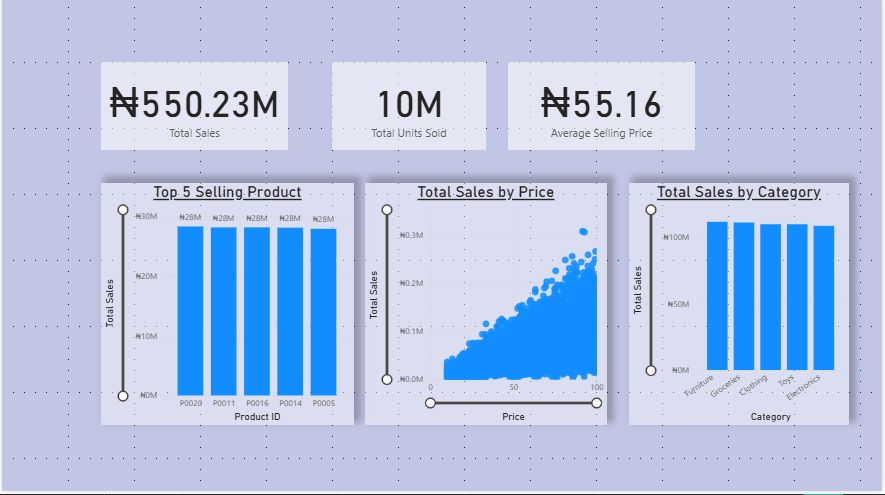

This screenshot's page, from the dashboard's own definition file:
{"tool":"powerbi","page":{"name":"Sales and Pricing","canvas":[1280,720],"ordinal":3},"visuals":[{"type":"card","fields":{"Values":["Table.Total Sales"]},"box":[144,96,272,128],"z":0},{"type":"card","fields":{"Values":["Table.Total Units Sold"]},"box":[480,96,224,128],"z":1000},{"type":"card","fields":{"Values":["Table.Average Selling Price"]},"box":[736,96,272,128],"z":2000},{"type":"clusteredColumnChart","title":"Top 5 Selling Product","fields":{"Category":["retail_store_inventory.Product ID"],"Y":["Table.Total Sales"]},"box":[144,272,368,352],"z":3000},{"type":"scatterChart","fields":{"X":["retail_store_inventory.Price"],"Y":["Table.Total Sales"]},"box":[528,272,352,352],"z":4000},{"type":"clusteredColumnChart","fields":{"Category":["retail_store_inventory.Category"],"Y":["Table.Total Sales"]},"box":[912,272,320,352],"z":5000}]}

Visuals, with their boxes in screenshot pixels (x1, y1, x2, y2), scaled from the page's 1280x720 canvas onto the 885x495 screenshot:
card - Table.Total Sales: BBox(100, 66, 288, 154)
card - Table.Total Units Sold: BBox(332, 66, 487, 154)
card - Table.Average Selling Price: BBox(509, 66, 697, 154)
"Top 5 Selling Product" clusteredColumnChart: BBox(100, 187, 354, 429)
scatterChart - retail_store_inventory.Price x Table.Total Sales: BBox(365, 187, 608, 429)
clusteredColumnChart - retail_store_inventory.Category x Table.Total Sales: BBox(631, 187, 852, 429)
